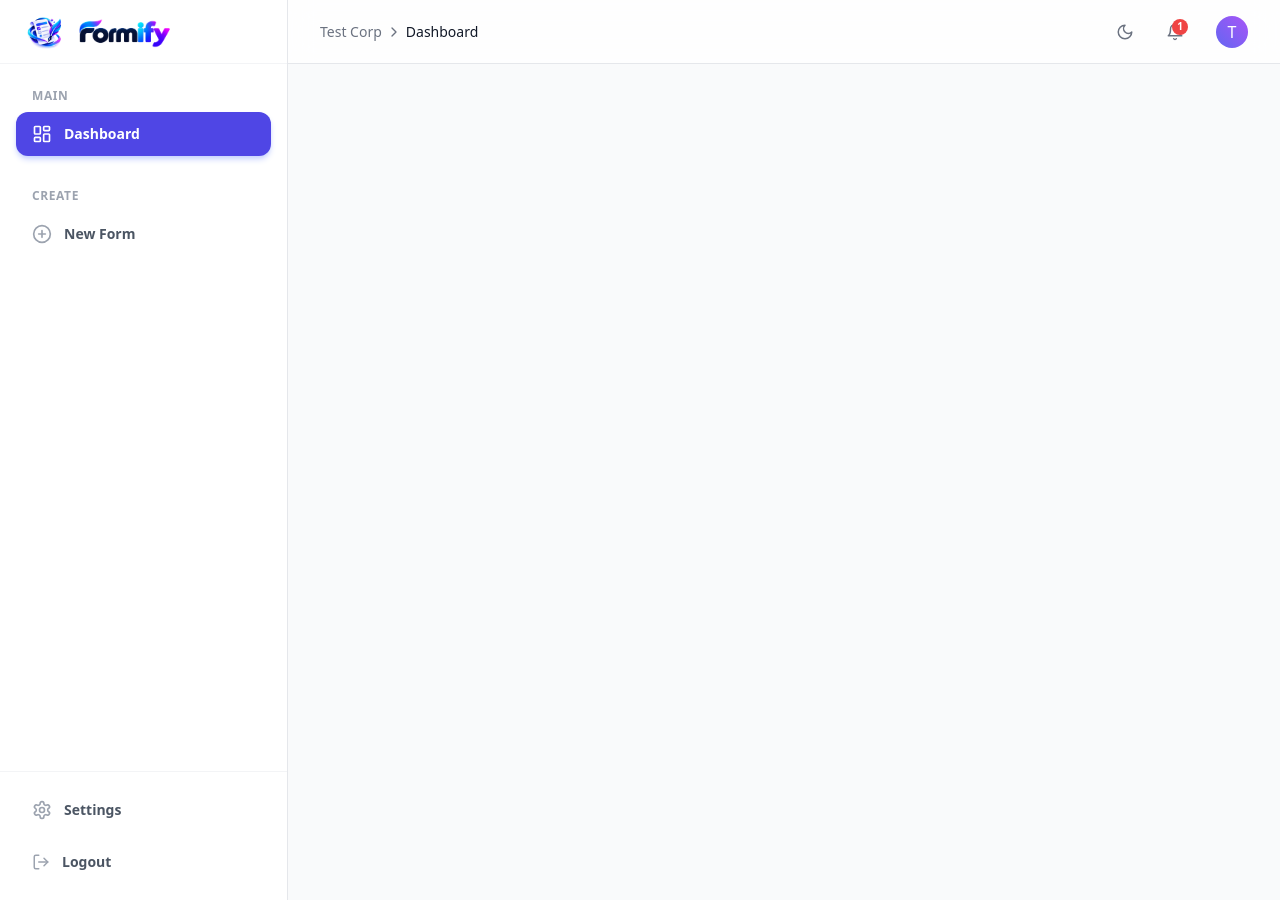
Profile, Notifications, and Settings Features › 5. Notification dropdown opens and shows real notifications
Expected: the text "1" is shown, [1172,18,1188,34]
Note: Click the unread badge which bubbles up to the notification button
Click the button "1": (1175, 32) [1158,14,1192,48]
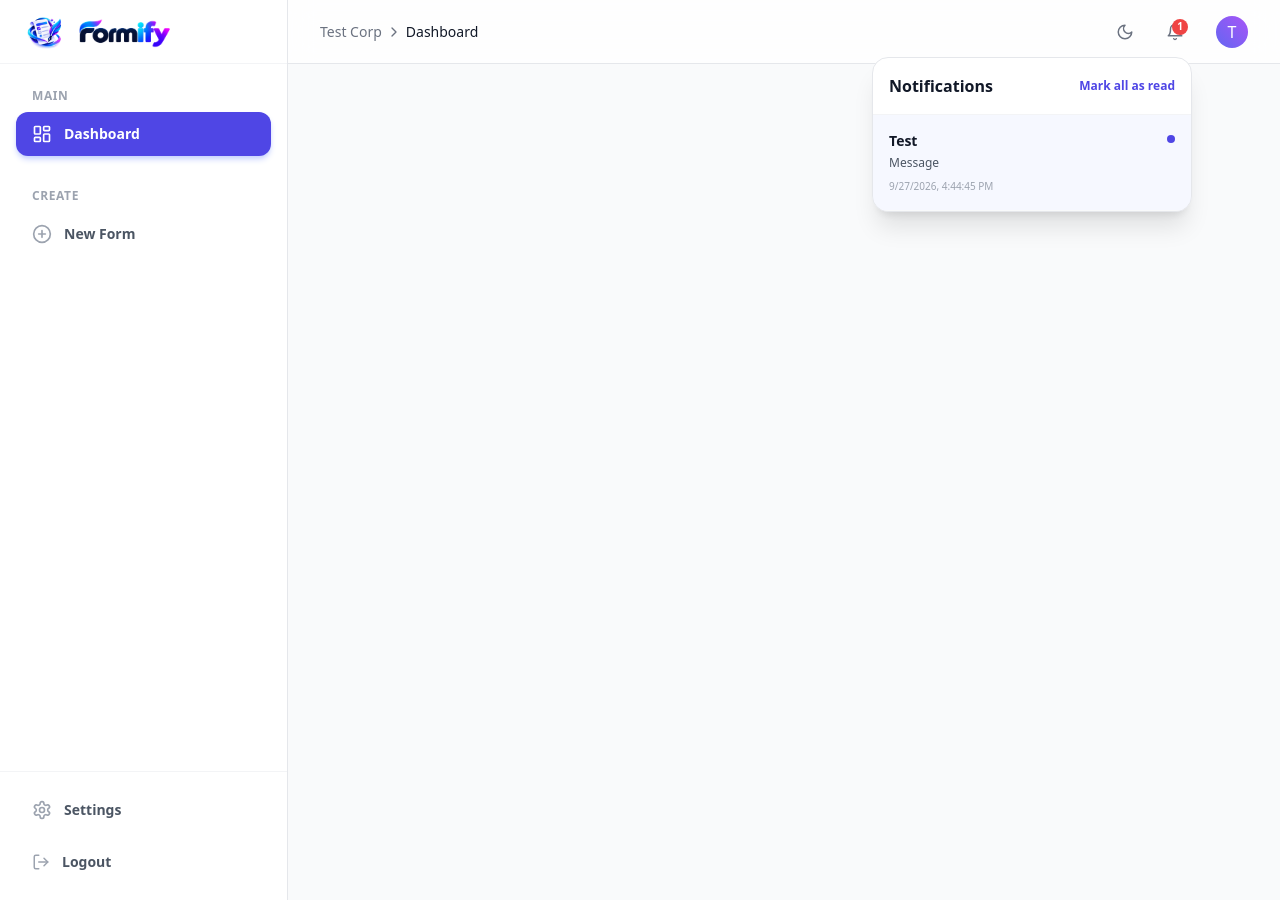
Result: the text "Message" is shown at [889,154,939,170]
